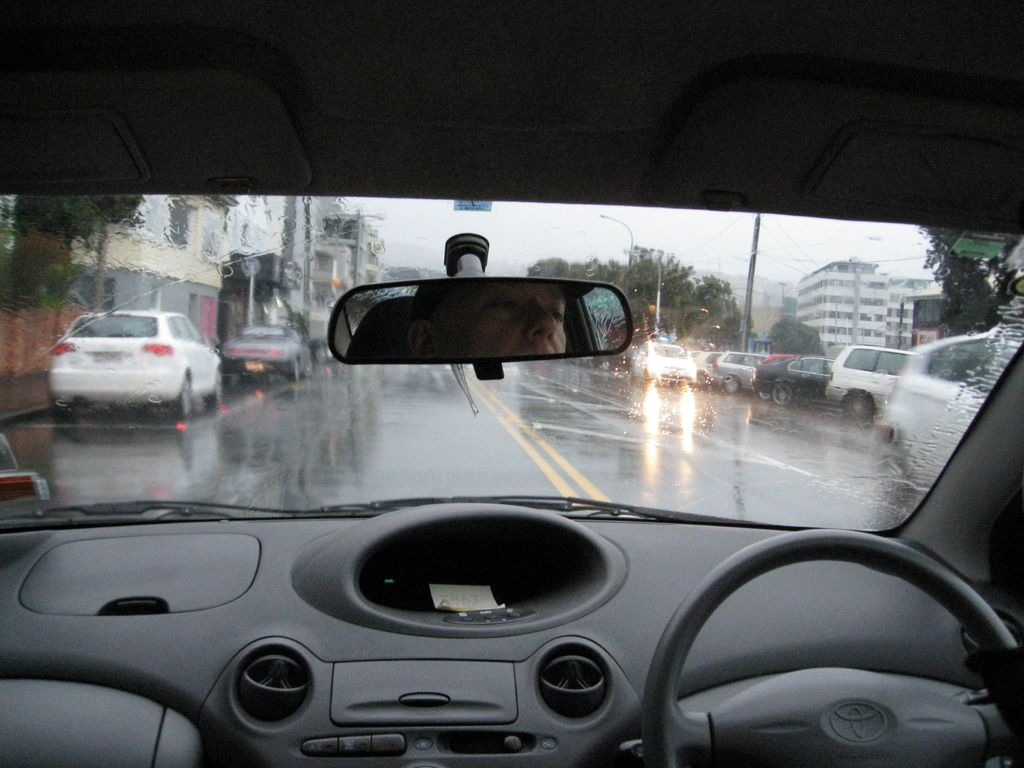face: (452, 270, 572, 391)
